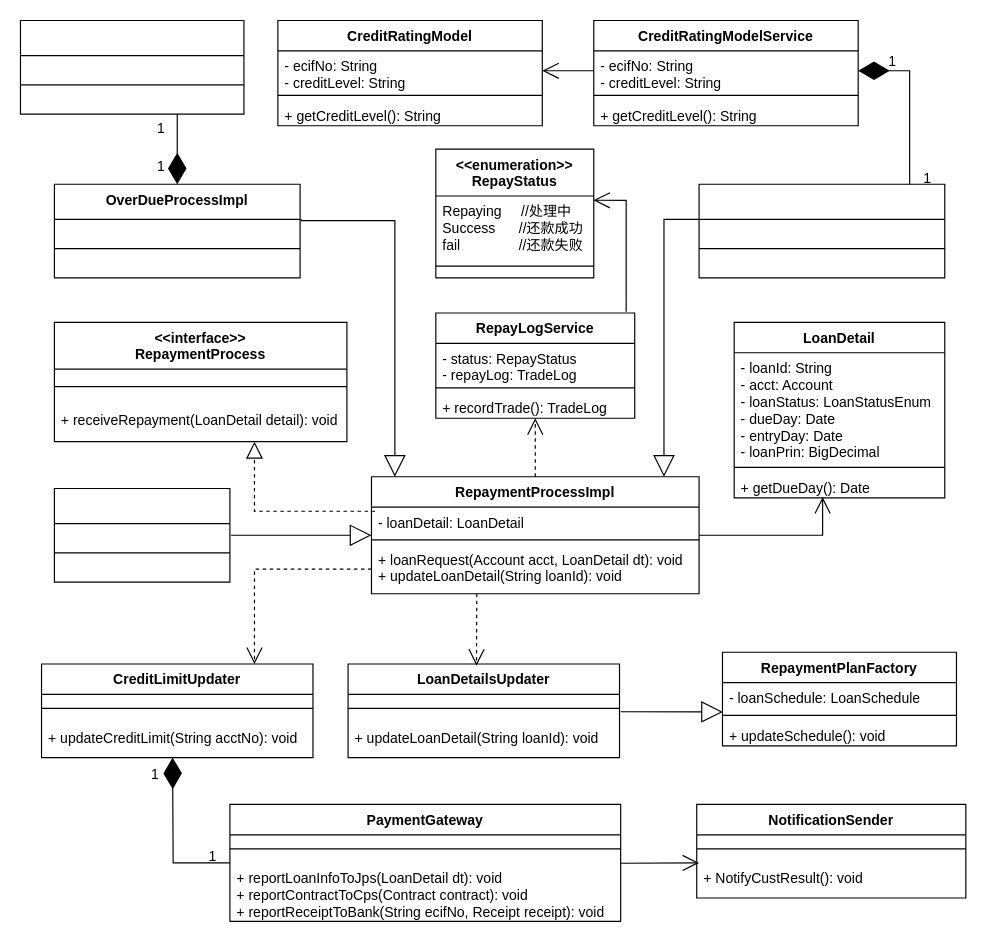
The diagram is 986 pixels wide and 945 high, and some of its shapes have lost their labels. Here are the shapes that lost their labels. From the top down, the centre of each, then its label:
the point at 131,66: OverDueReportService
the point at 821,230: AdvanceAcctProcessImpl
the point at 141,534: NormalProcessImpl
